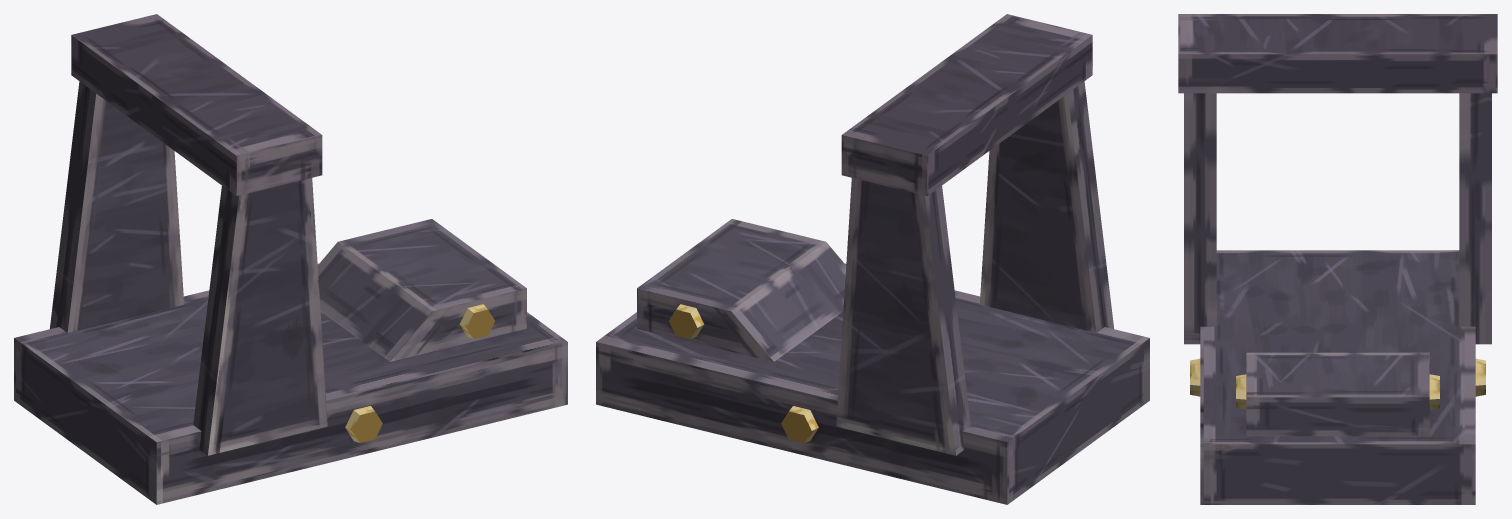
The model's file is att_reddot.bundle.fbx.
3 renders of one model, left to right at view 1: azimuth 30°, elevation 25°; view 2: azimuth 150°, elevation 25°; view 3: azimuth 270°, elevation 25°, orthographic. The views are drawn at different scales.
Parts seen in each view (by area): view 1: att_reddot_low, att_reddot; view 2: att_reddot, att_reddot_low; view 3: att_reddot, att_reddot_low.
Boxes of the visible parts, bbox=[...] form: att_reddot_low: bbox=[14, 14, 567, 504]; att_reddot: bbox=[19, 17, 559, 500]; att_reddot: bbox=[601, 17, 1144, 500]; att_reddot_low: bbox=[596, 14, 1149, 504]; att_reddot: bbox=[1186, 14, 1489, 504]; att_reddot_low: bbox=[1178, 14, 1497, 504].
Bounding box in the file's own units: 0.27 × 0.2138 × 0.1879.
1 material, 1 textured.
